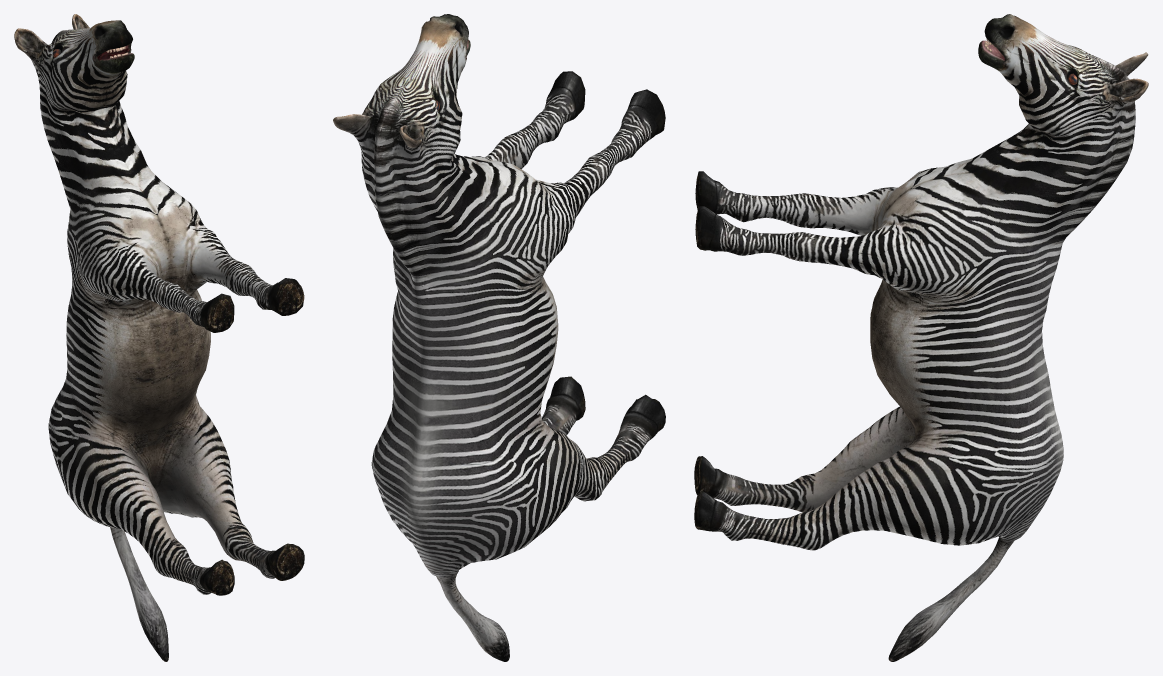
3 renders of one model, left to right at view 1: azimuth 30°, elevation 25°; view 2: azimuth 150°, elevation 25°; view 3: azimuth 270°, elevation 25°, orthographic. The views are drawn at different scales.
Parts seen in each view (by area): view 1: Zebra_SHP2_0_Zebra_Mat_0; view 2: Zebra_SHP2_0_Zebra_Mat_0; view 3: Zebra_SHP2_0_Zebra_Mat_0.
Boxes of the visible parts, x1,y1,x2,y2 form: Zebra_SHP2_0_Zebra_Mat_0: [14, 14, 304, 661]; Zebra_SHP2_0_Zebra_Mat_0: [333, 14, 665, 661]; Zebra_SHP2_0_Zebra_Mat_0: [694, 14, 1148, 661].
Bounding box in the file's own units: 0.7551 × 3.27 × 2.1.
1 material, 1 textured.
